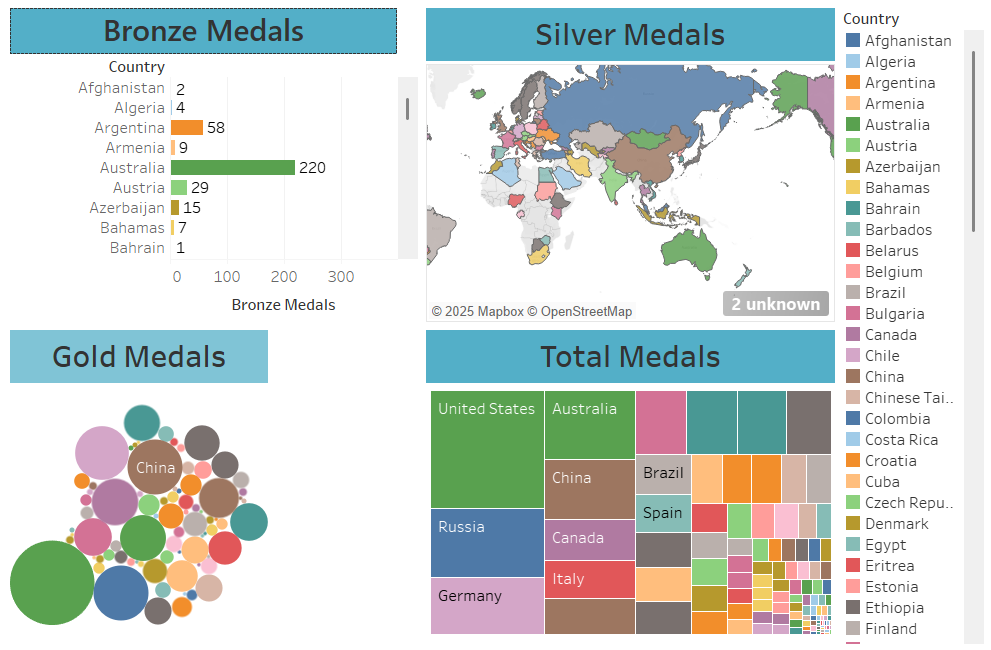

The page's visual inventory and layout, read from the dashboard file:
{"tool":"tableau","page":{"name":"Dashboard 1","canvas":[1000,660],"ordinal":0},"visuals":[{"type":"worksheet","title":"Bronze Medal","mark":"Automatic","rows":["Country"],"cols":["Bronze Medals"],"box":[8,8,416.4,322]},{"type":"worksheet","title":"Sliver Medal","mark":"Multipolygon","box":[424.4,8,416.6,322]},{"type":"legend","title":"Bronze Medal","param":"[federated.0lhd53d1wmgnzl12so1kw0k3cft3].[none:Country:nk]","box":[841,8,151,644]},{"type":"worksheet","title":"Gold Medal","mark":"Circle","box":[8,330,416.4,322]},{"type":"worksheet","title":"Total Medals","mark":"Automatic","box":[424.4,330,416.6,322]}]}

Visuals, with their boxes in screenshot pixels (x1, y1, x2, y2), scaled from the page's 1000x660 canvas onto the 991x650 screenshot:
"Bronze Medal" worksheet: crop(8, 8, 421, 325)
"Sliver Medal" worksheet (Multipolygon marks): crop(421, 8, 833, 325)
"Bronze Medal" legend: crop(833, 8, 983, 642)
"Gold Medal" worksheet (Circle marks): crop(8, 325, 421, 642)
"Total Medals" worksheet: crop(421, 325, 833, 642)
